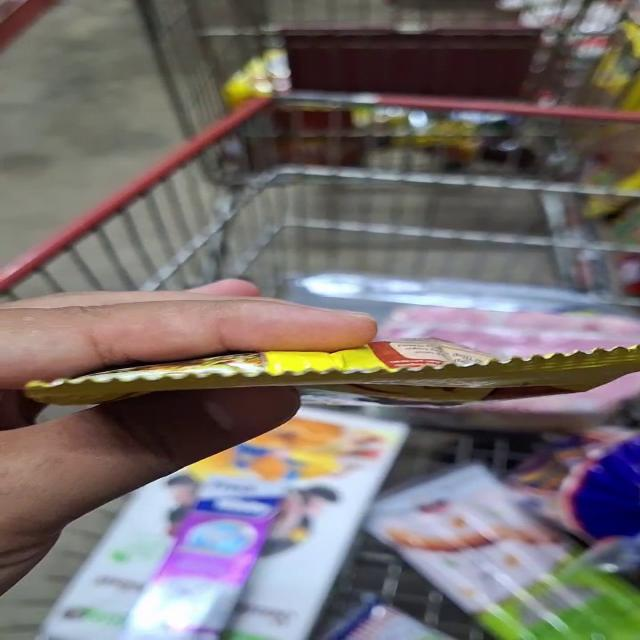Maggi Cukup Rasa: (13, 334, 640, 413)
Tisu: (273, 516, 366, 640), (322, 403, 397, 518)
Ubat Gigi: (176, 465, 288, 554), (151, 538, 242, 640)
